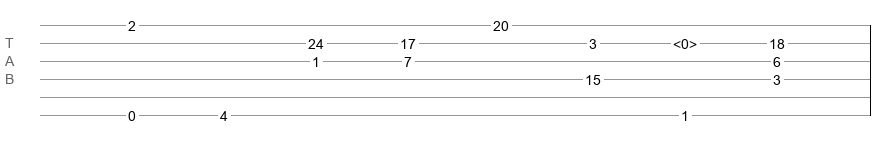0: (128, 108, 136, 118)
1: (312, 54, 320, 64), (681, 108, 689, 118)
15: (585, 72, 601, 82)
17: (400, 36, 416, 46)
18: (769, 36, 785, 46)
2: (128, 18, 136, 28)
20: (493, 18, 509, 28)
24: (308, 36, 324, 46)
3: (589, 36, 597, 46), (773, 72, 781, 82)
4: (220, 108, 228, 118)
6: (773, 54, 781, 64)
7: (404, 54, 412, 64)
harmonic: (673, 36, 697, 46)
